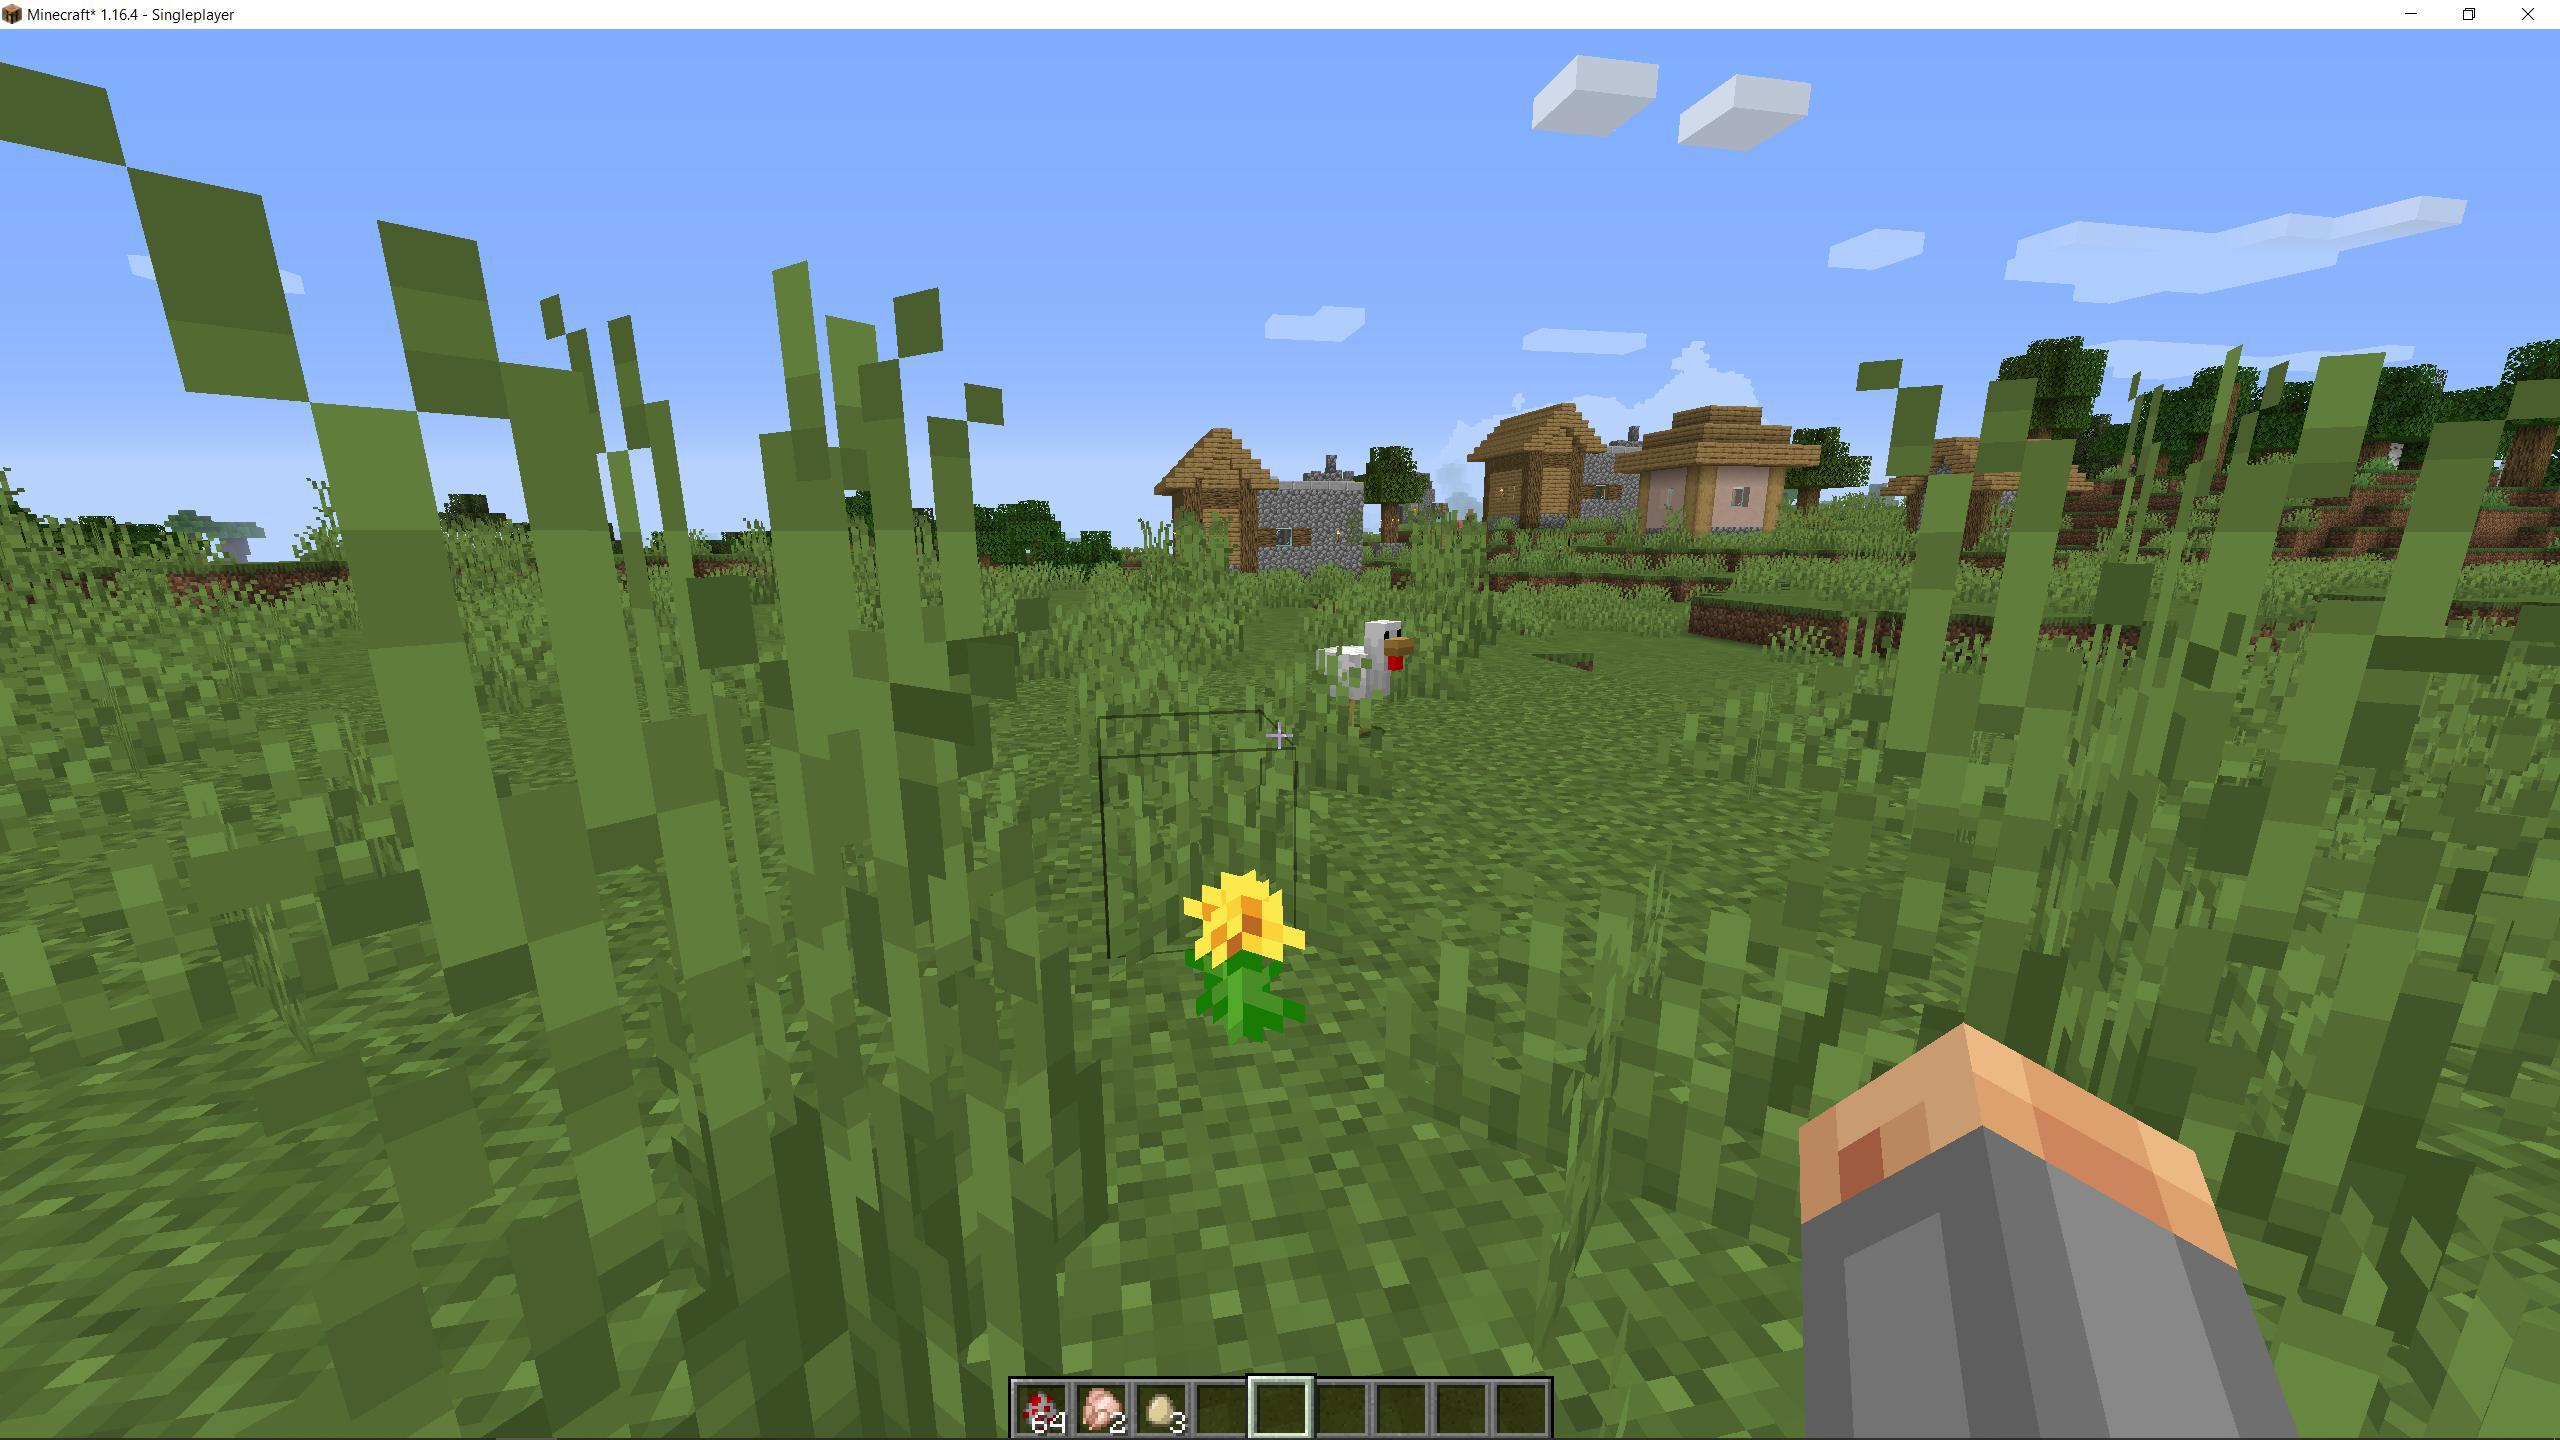chicken: (1312, 622, 1414, 731)
